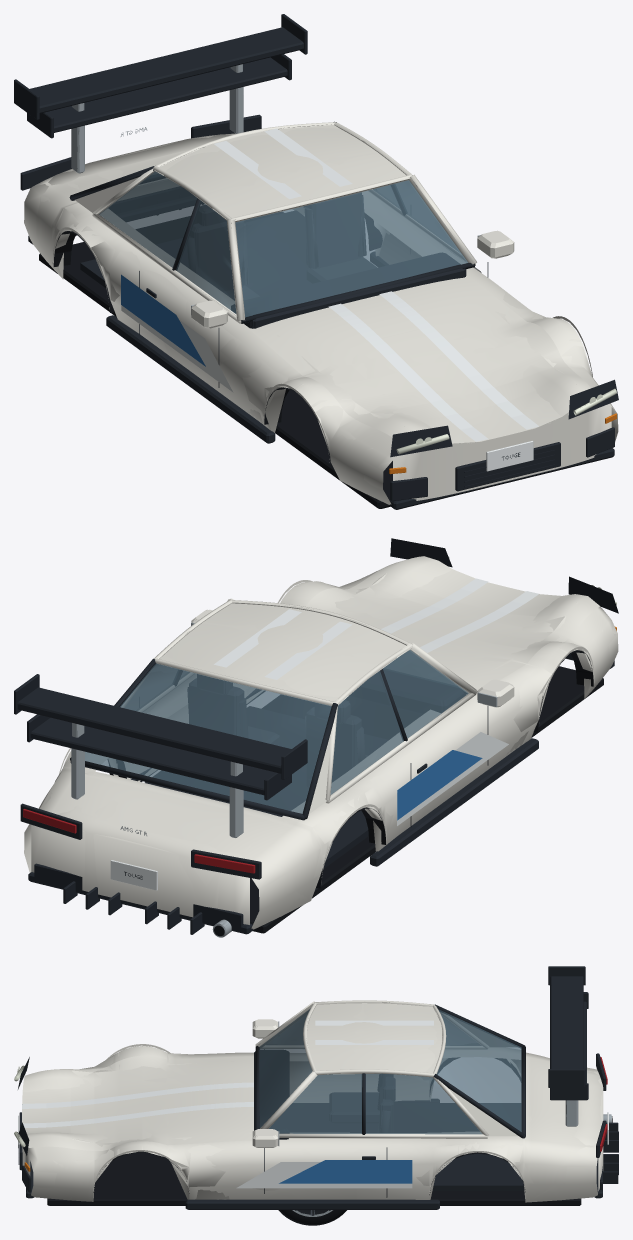
The model's file is amggtr.glb.
3 views of the same model, one above another, from view 1: azimuth 30°, elevation 25°; view 2: azimuth 150°, elevation 25°; view 3: azimuth 270°, elevation 25° (orthographic). The views are drawn at different scales.
Visible parts, largest first — view 1: LOD0_body, LOD0_cabin, LOD0_glass, LOD1_glass, LOD1_body, LOD0_hood, LOD1_hood, LOD1_spoiler_gt, LOD1_cabin, LOD1_spoiler_stock, LOD0_spoiler_stock, LOD0_spoiler_gt (+3 smaller); view 2: LOD0_body, LOD0_cabin, LOD1_body, LOD0_glass, LOD1_glass, LOD1_hood, LOD0_hood, LOD1_spoiler_gt, LOD1_cabin, LOD1_spoiler_stock, LOD0_spoiler_stock, LOD0_spoiler_gt (+3 smaller); view 3: LOD0_body, LOD0_cabin, LOD0_glass, LOD1_glass, LOD1_body, LOD0_hood, LOD1_hood, LOD1_cabin, LOD0_vinyl_apex, LOD1_spoiler_gt, LOD0_vinyl_twin, LOD1_vinyl_twin (+3 smaller).
Part boxes in pixels (x1=…): LOD0_body: x1=20, y1=115, x2=618, y2=509; LOD0_cabin: x1=69, y1=121, x2=476, y2=328; LOD0_glass: x1=99, y1=171, x2=467, y2=316; LOD1_glass: x1=99, y1=172, x2=467, y2=316; LOD1_body: x1=20, y1=128, x2=617, y2=509; LOD0_hood: x1=248, y1=275, x2=590, y2=443; LOD1_hood: x1=316, y1=304, x2=576, y2=443; LOD1_spoiler_gt: x1=14, y1=27, x2=306, y2=119; LOD1_cabin: x1=70, y1=122, x2=466, y2=328; LOD1_spoiler_stock: x1=46, y1=57, x2=289, y2=173; LOD0_spoiler_stock: x1=27, y1=54, x2=291, y2=173; LOD0_spoiler_gt: x1=14, y1=14, x2=307, y2=119; LOD0_body: x1=20, y1=538, x2=618, y2=937; LOD0_cabin: x1=70, y1=598, x2=477, y2=868; LOD1_body: x1=22, y1=545, x2=618, y2=937; LOD0_glass: x1=85, y1=650, x2=467, y2=813; LOD1_glass: x1=85, y1=650, x2=468, y2=813; LOD1_hood: x1=335, y1=569, x2=564, y2=668; LOD0_hood: x1=305, y1=556, x2=599, y2=694; LOD1_spoiler_gt: x1=16, y1=674, x2=299, y2=779; LOD1_cabin: x1=126, y1=599, x2=476, y2=867; LOD1_spoiler_stock: x1=31, y1=717, x2=275, y2=837; LOD0_spoiler_stock: x1=27, y1=714, x2=291, y2=837; LOD0_spoiler_gt: x1=14, y1=674, x2=307, y2=779; LOD0_body: x1=14, y1=1019, x2=618, y2=1209; LOD0_cabin: x1=254, y1=1000, x2=525, y2=1190; LOD0_glass: x1=259, y1=1008, x2=521, y2=1133; LOD1_glass: x1=259, y1=1009, x2=521, y2=1134; LOD1_body: x1=15, y1=1019, x2=612, y2=1209; LOD0_hood: x1=22, y1=1055, x2=253, y2=1150; LOD1_hood: x1=22, y1=1065, x2=216, y2=1142; LOD1_cabin: x1=255, y1=1002, x2=523, y2=1190; LOD0_vinyl_apex: x1=236, y1=1160, x2=412, y2=1188; LOD1_spoiler_gt: x1=549, y1=976, x2=584, y2=1069; LOD0_vinyl_twin: x1=25, y1=1020, x2=433, y2=1127; LOD1_vinyl_twin: x1=22, y1=1020, x2=433, y2=1127.
Size of the model in its own units: 2.2 by 1.75 by 4.74.
